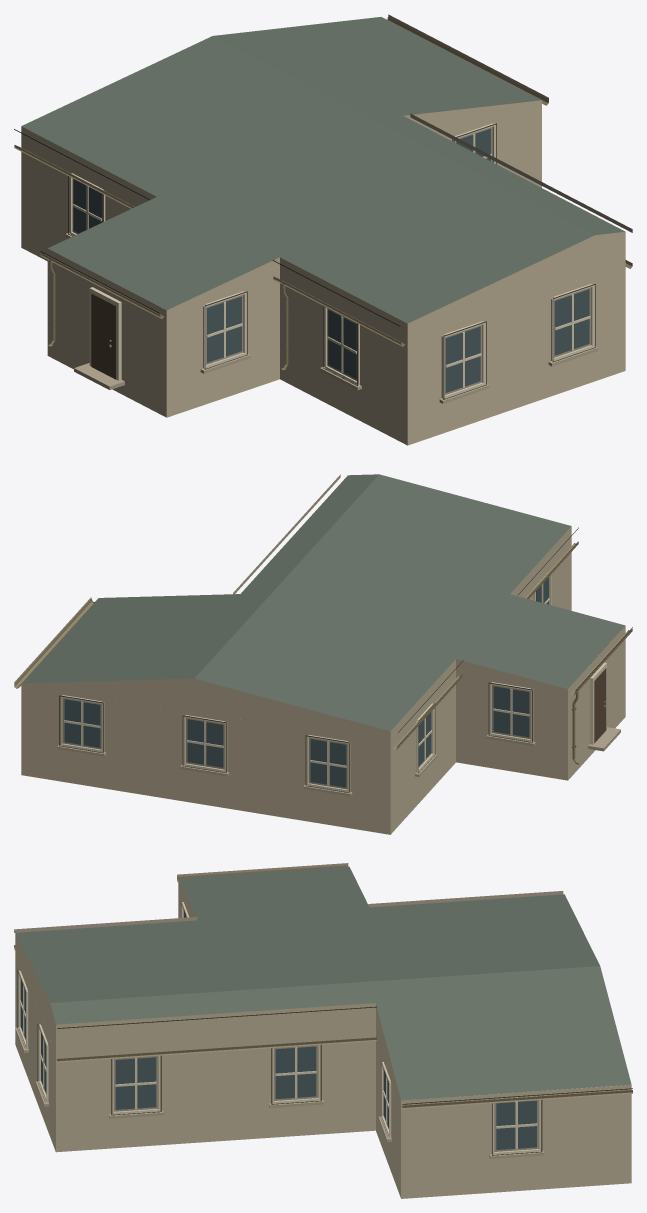
The picture shows the model from 3 angles, top to bottom: view 1: azimuth 30°, elevation 25°; view 2: azimuth 150°, elevation 25°; view 3: azimuth 270°, elevation 25°; orthographic projection. The views are drawn at different scales.
Visible parts, largest first — view 1: 0_12_608383941_0; view 2: 0_12_608383941_0; view 3: 0_12_608383941_0.
Part boxes in pixels (bbox=[...]): 0_12_608383941_0: bbox=[14, 14, 632, 445]; 0_12_608383941_0: bbox=[14, 474, 632, 834]; 0_12_608383941_0: bbox=[14, 863, 632, 1198].
Size of the model in its own units: 16.46 by 4.27 by 17.86.
